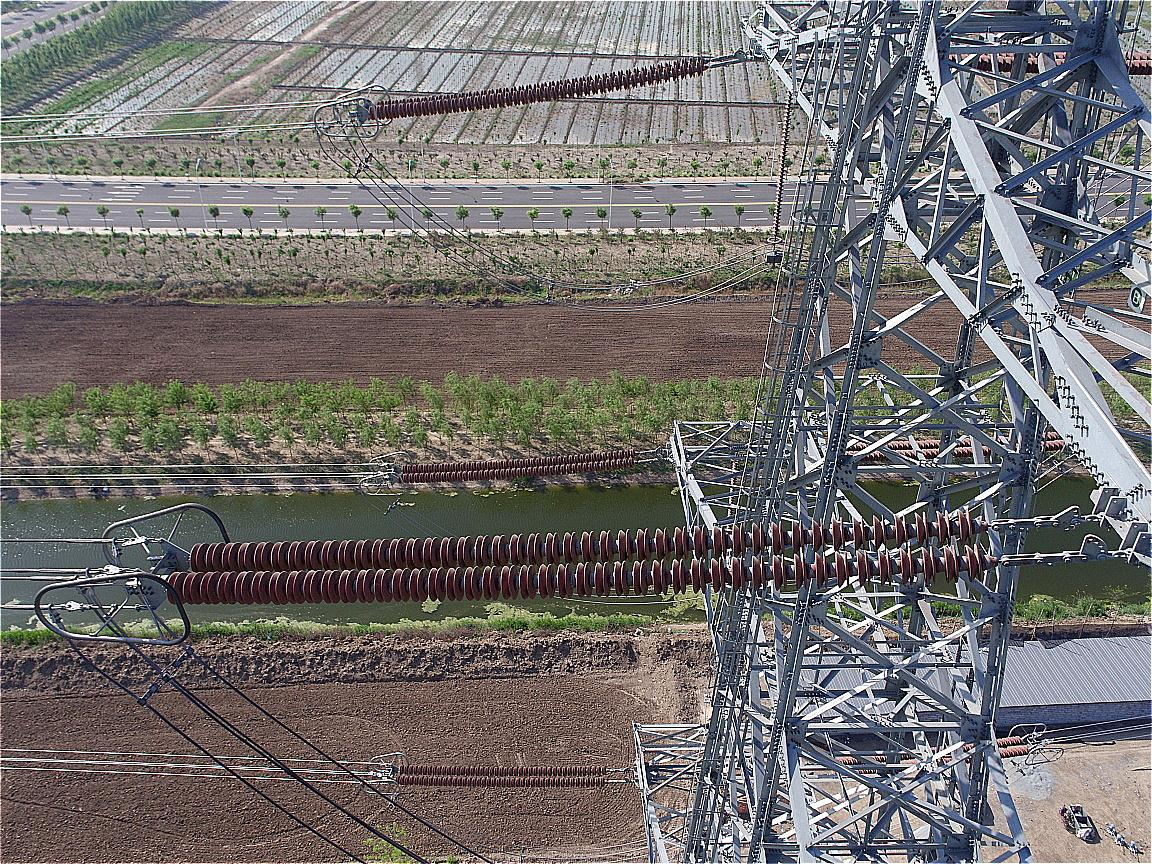insultor2: (165, 512, 987, 606), (372, 52, 708, 120), (396, 761, 607, 791)
